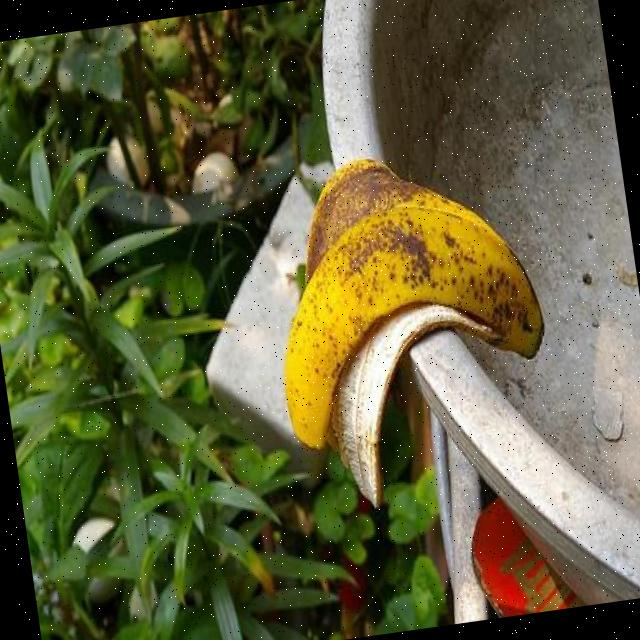banana-peel: (252, 134, 567, 518)
